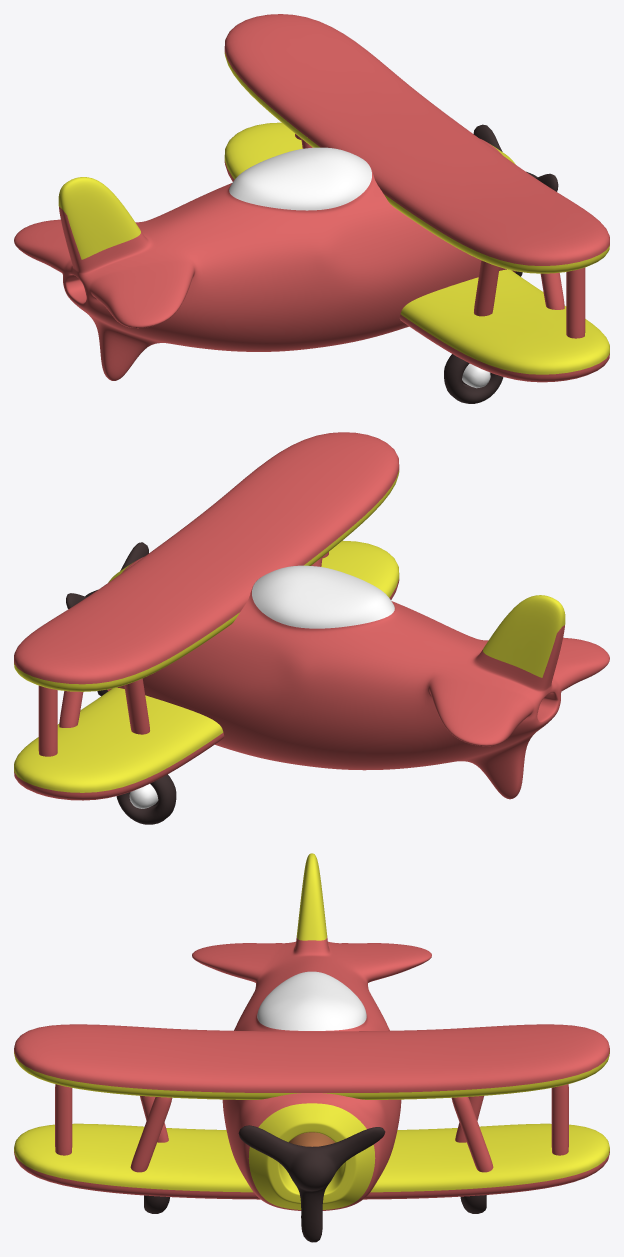
3 views of the same model, one above another, from view 1: azimuth 30°, elevation 25°; view 2: azimuth 150°, elevation 25°; view 3: azimuth 270°, elevation 25° (orthographic). The views are drawn at different scales.
Visible parts, largest first — view 1: samor_1105_45, samor_1105_46.001; view 2: samor_1105_45, samor_1105_46.001; view 3: samor_1105_45, samor_1105_46.001.
Part boxes in pixels (x1,y1,x2,y2): samor_1105_45: (14, 14, 609, 403); samor_1105_46.001: (473, 124, 558, 276); samor_1105_45: (14, 432, 609, 824); samor_1105_46.001: (66, 542, 148, 696); samor_1105_45: (14, 853, 609, 1213); samor_1105_46.001: (238, 1125, 385, 1242).
Bounding box in the file's own units: 789 × 369 × 921.
